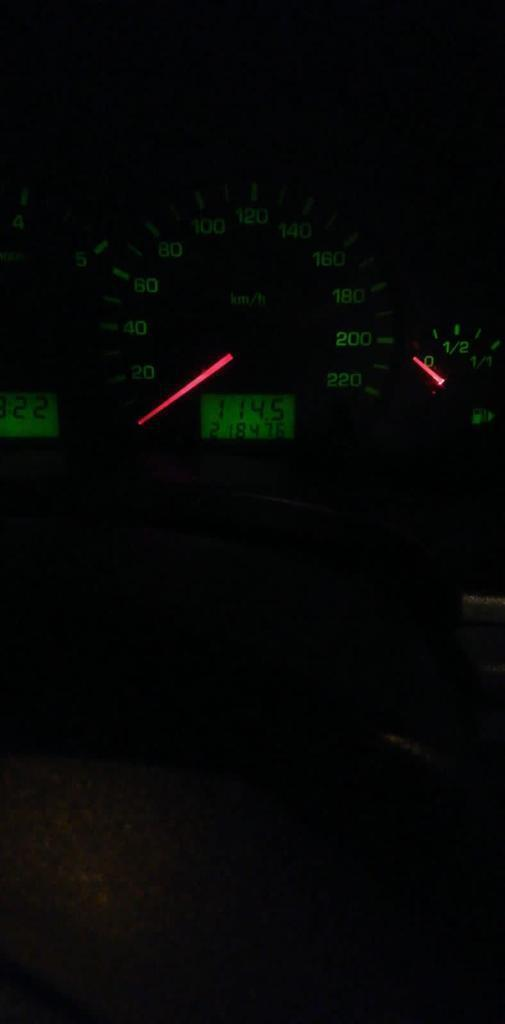,: (264, 416, 269, 421)
1: (218, 397, 225, 418), (239, 398, 246, 419), (228, 422, 234, 439)
2: (209, 422, 220, 438)
4: (250, 398, 264, 419), (248, 422, 259, 439)
5: (270, 397, 285, 420)
6: (276, 422, 286, 438)
7: (263, 422, 273, 439)
8: (235, 421, 246, 438)
odometer: (199, 390, 296, 441)
